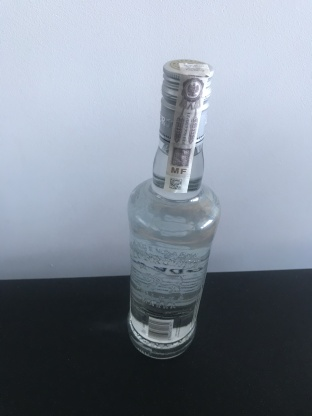nakretka: (157, 53, 215, 150)
